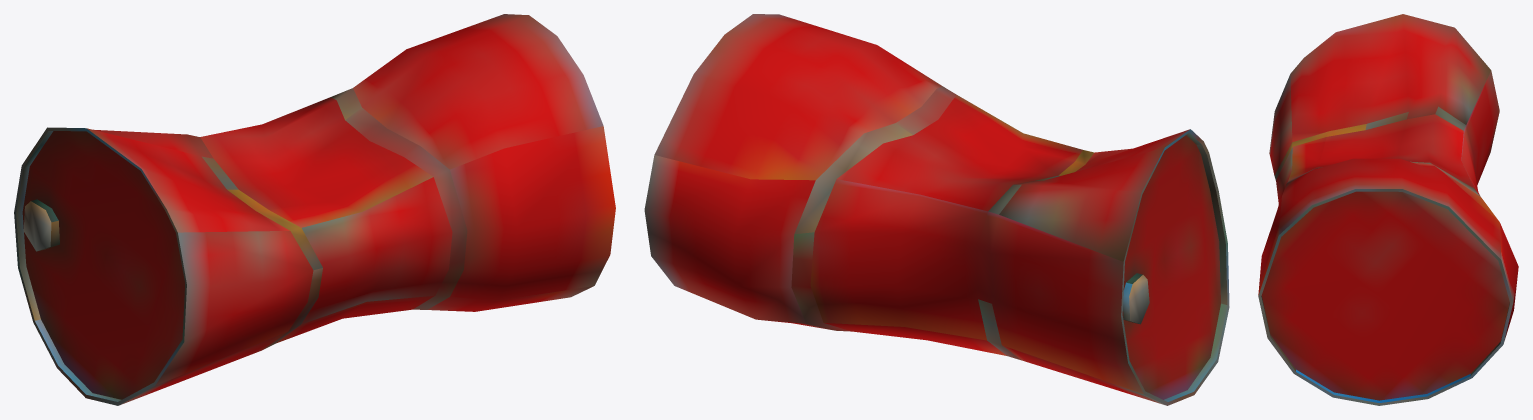
Rendered from junk_04-v3.glb.
3 renders of one model, left to right at view 1: azimuth 30°, elevation 25°; view 2: azimuth 150°, elevation 25°; view 3: azimuth 270°, elevation 25°, orthographic. The views are drawn at different scales.
Parts seen in each view (by area): view 1: junk_04; view 2: junk_04; view 3: junk_04.
Part boxes in pixels (<box>): junk_04: <box>14,14,615,405</box>; junk_04: <box>644,14,1229,405</box>; junk_04: <box>1258,14,1518,405</box>.
Size of the model in its own units: 1.76 by 0.9318 by 1.01.
Materials: 1 (1 with a texture image).
